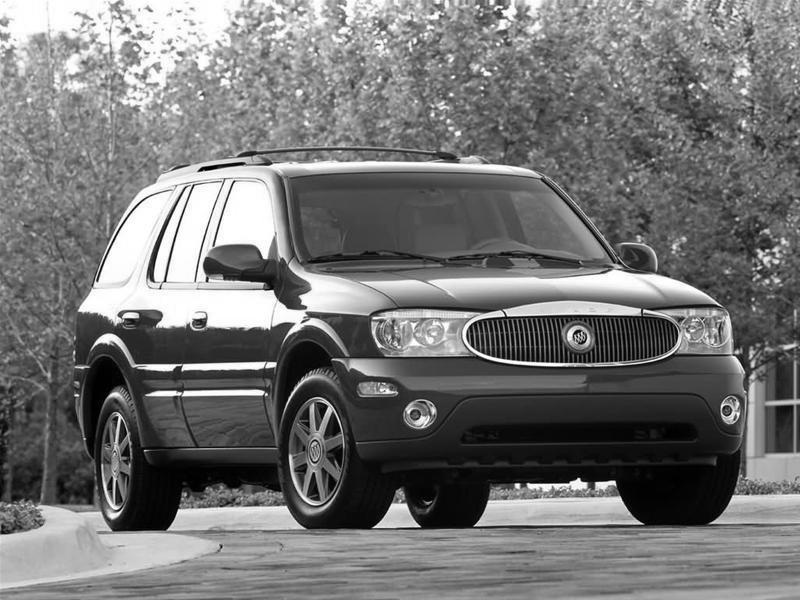car: (76, 150, 756, 531)
